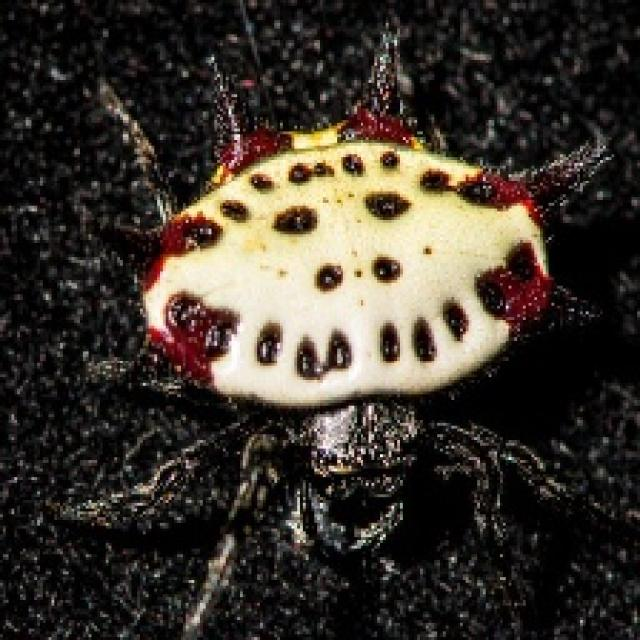Non venomous spider: (70, 84, 617, 425)
